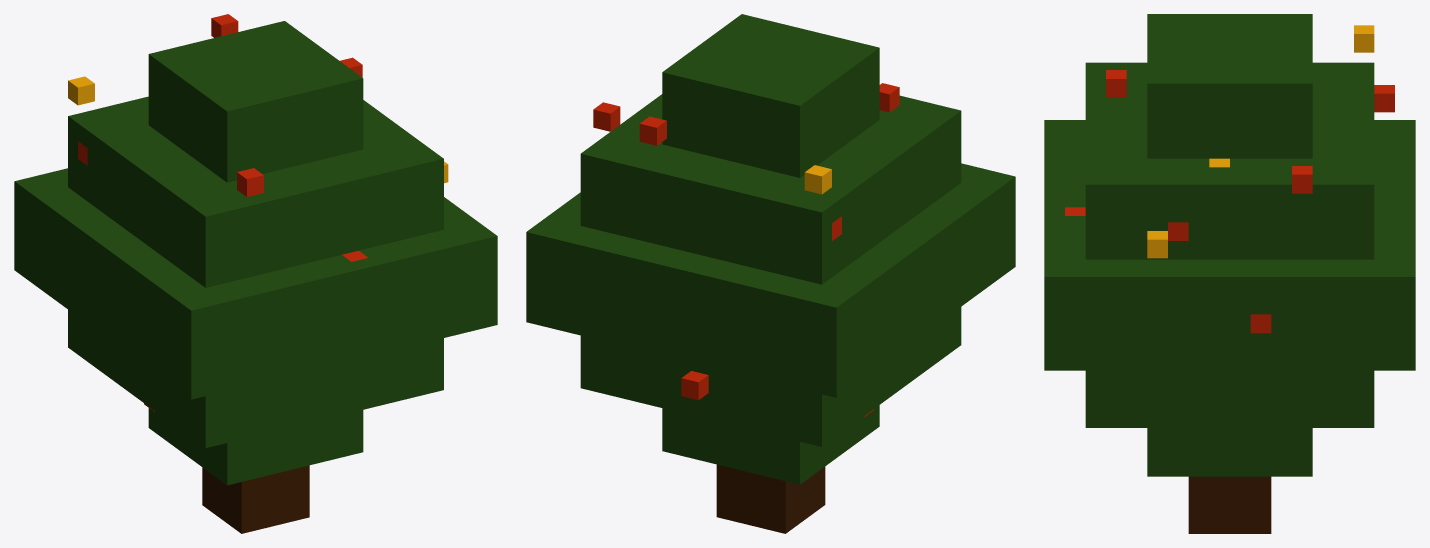
The model's file is cafe_v3.obj.
3 renders of one model, left to right at view 1: azimuth 30°, elevation 25°; view 2: azimuth 150°, elevation 25°; view 3: azimuth 270°, elevation 25°, orthographic. The views are drawn at different scales.
Bounding box in the file's own units: 18 × 25 × 18.
